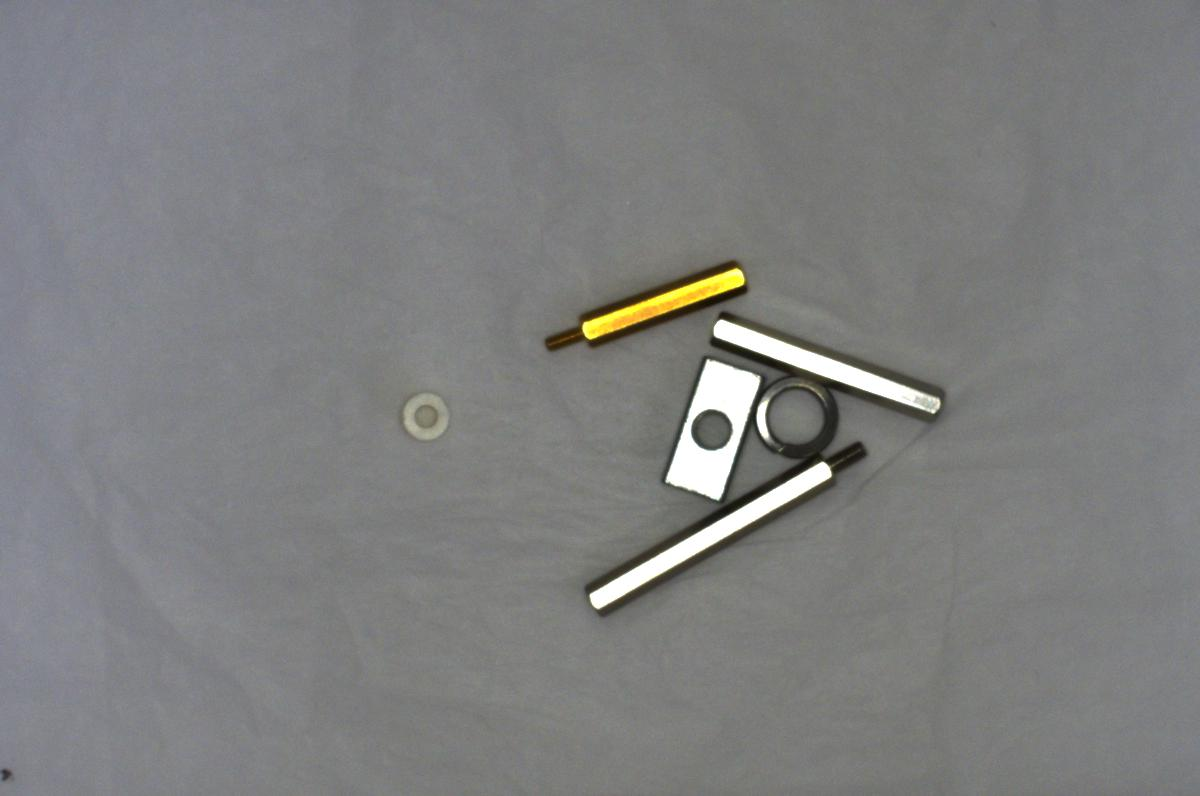Double hexagonal column: (702, 309, 952, 422)
Hexagon pillar: (541, 254, 752, 356)
Hexagonal steel column: (578, 431, 875, 631)
Plastic cushion pillar: (394, 382, 457, 445)
Rectangular nut: (655, 353, 760, 503)
Spring washer: (752, 373, 847, 460)
